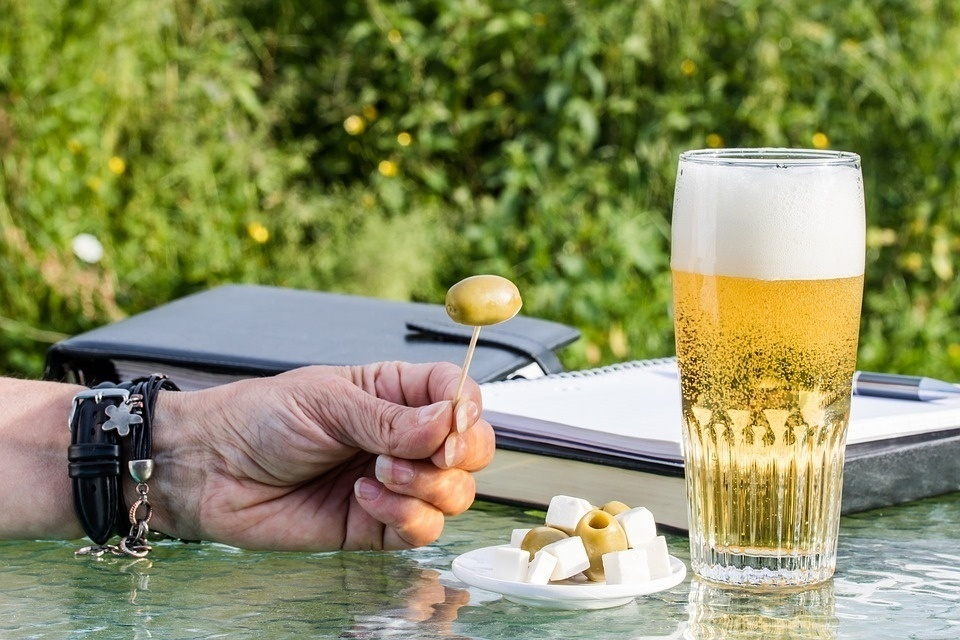whiskey: (662, 153, 874, 601)
